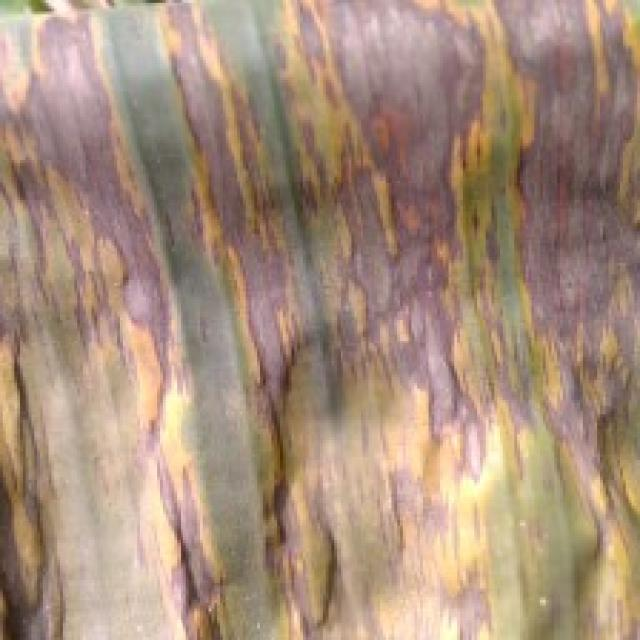Early_leaf_spot: (0, 0, 623, 626)
